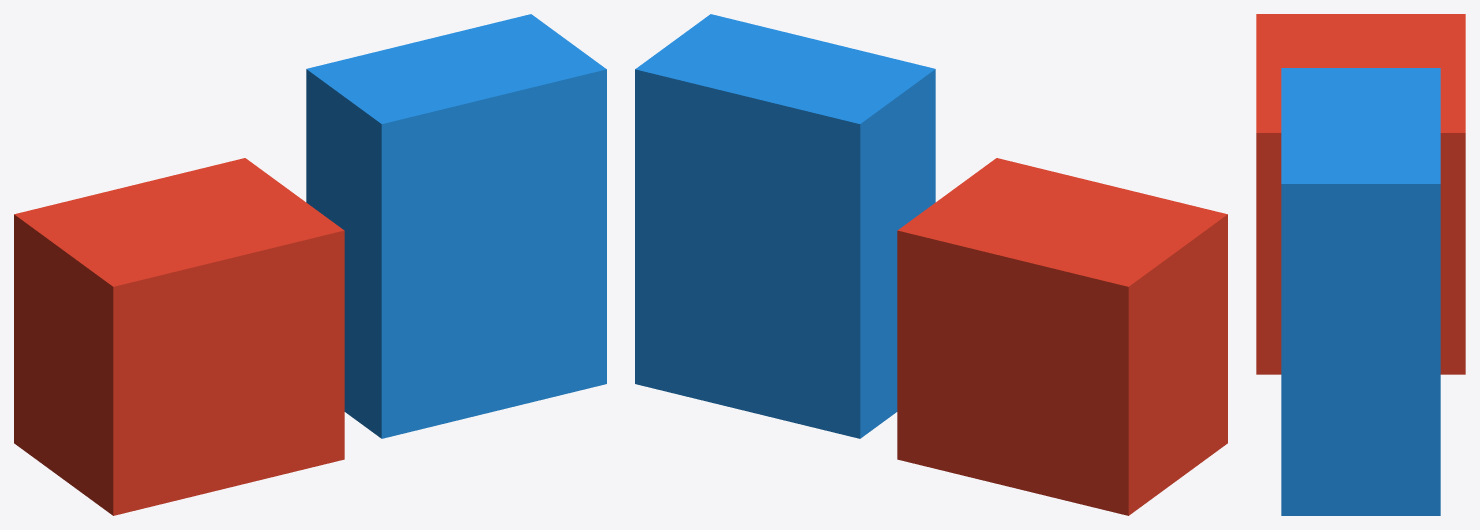
Rendered from two-boxes.obj.
3 views of the same model, side by side, from view 1: azimuth 30°, elevation 25°; view 2: azimuth 150°, elevation 25°; view 3: azimuth 270°, elevation 25° (orthographic). The views are drawn at different scales.
Parts seen in each view (by area): view 1: BlueBox, OrangeBox; view 2: BlueBox, OrangeBox; view 3: BlueBox, OrangeBox.
Boxes of the visible parts, x1,y1,x2,y2 form: BlueBox: (306,14,606,438); OrangeBox: (14,158,344,515); BlueBox: (635,14,935,438); OrangeBox: (897,158,1227,515); BlueBox: (1281,68,1440,515); OrangeBox: (1256,14,1465,374).
Bounding box in the file's own units: 2.47 × 1.47 × 0.84.
